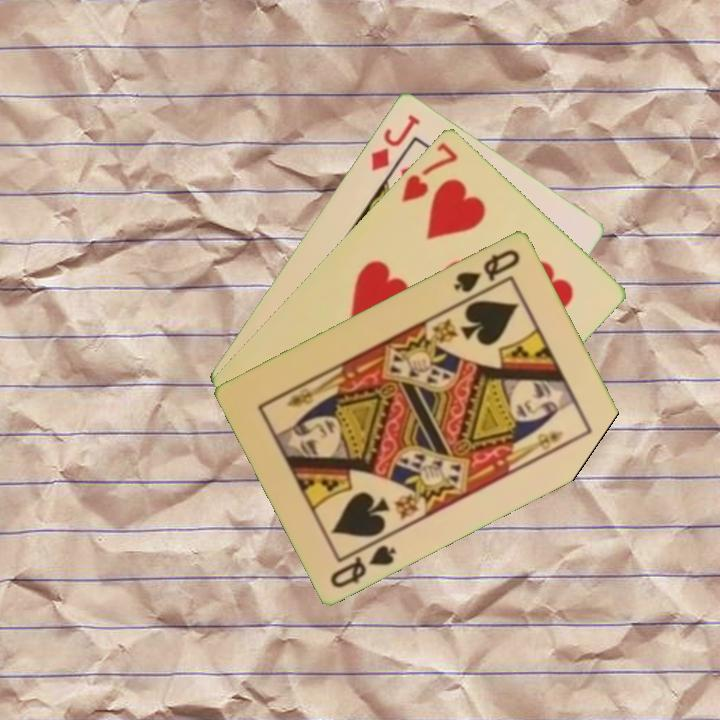7h: (397, 138, 461, 205)
Jd: (367, 110, 423, 174)
Qs: (326, 532, 400, 591), (450, 245, 523, 295)
